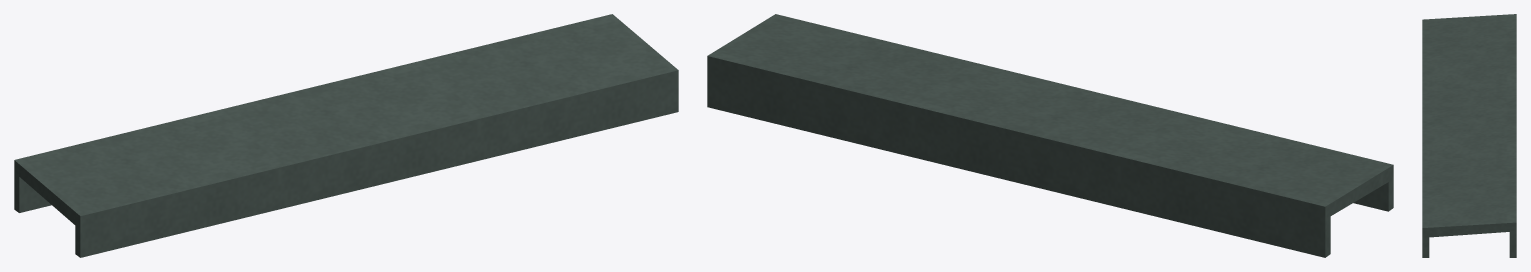
The model's file is modern-parapet-cap.lod1.glb.
3 renders of one model, left to right at view 1: azimuth 30°, elevation 25°; view 2: azimuth 150°, elevation 25°; view 3: azimuth 270°, elevation 25°, orthographic. The views are drawn at different scales.
Parts seen in each view (by area): view 1: modern-parapet-cap; view 2: modern-parapet-cap; view 3: modern-parapet-cap.
Boxes of the visible parts, x1=… form: modern-parapet-cap: x1=14, y1=14, x2=678, y2=257; modern-parapet-cap: x1=707, y1=14, x2=1393, y2=257; modern-parapet-cap: x1=1422, y1=14, x2=1516, y2=257.
Bounding box in the file's own units: 2.4 × 0.19 × 0.46.
1 material, 1 textured.
